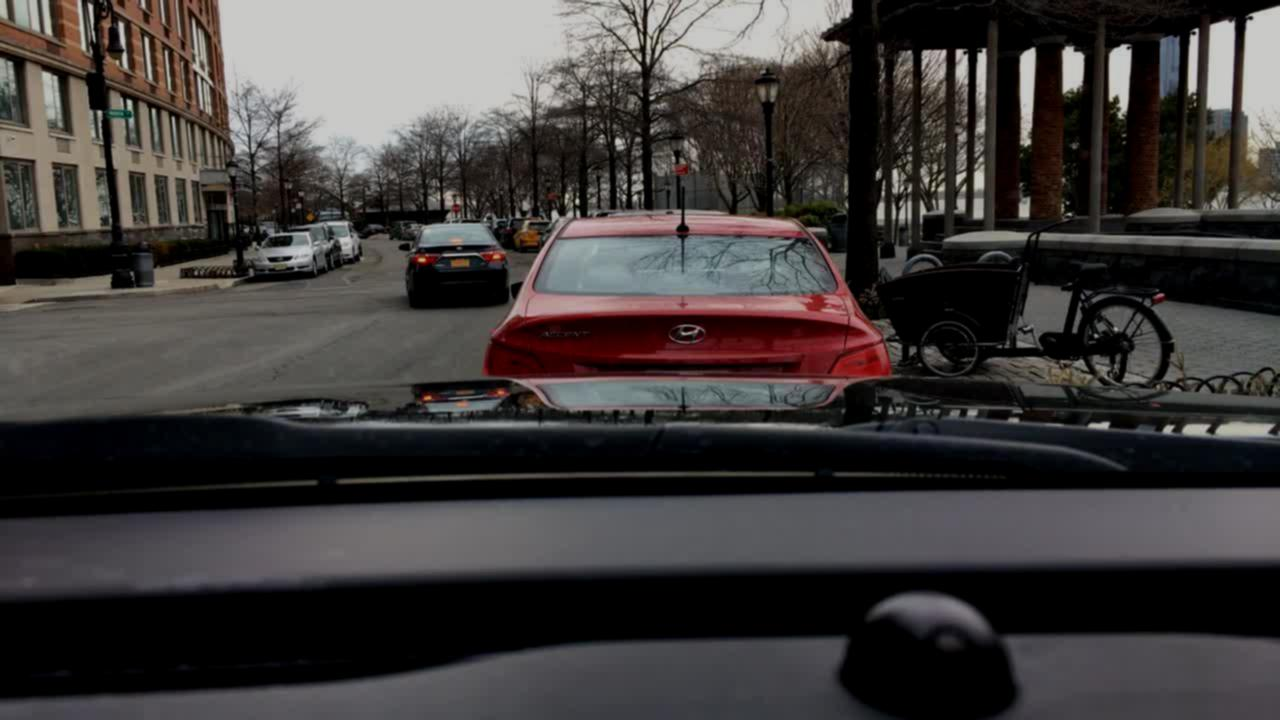Hyundai: (661, 313, 715, 352)
